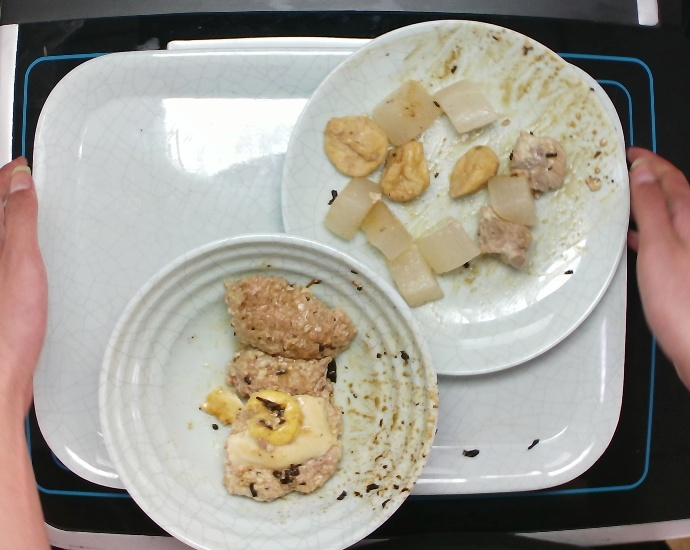JYsf-Da_Tang_Wan: (93, 227, 444, 550)
JYsf-Da_Yuan_Pan: (274, 13, 635, 383)
